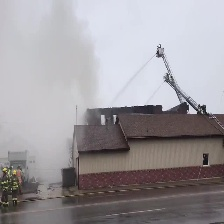smoke: (1, 1, 105, 152)
